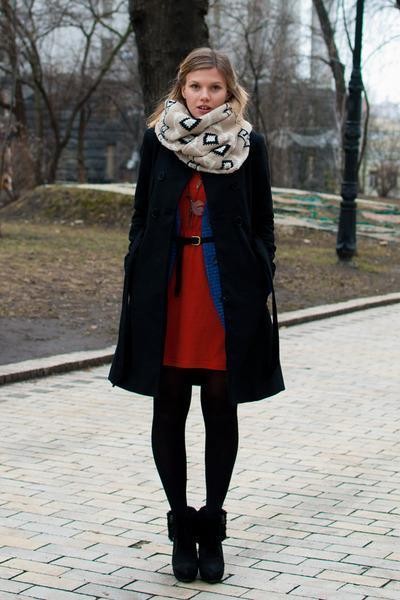dress: (161, 180, 241, 395)
jacket: (108, 132, 284, 404)
pants: (151, 386, 237, 509)
shoe: (167, 492, 229, 584)
